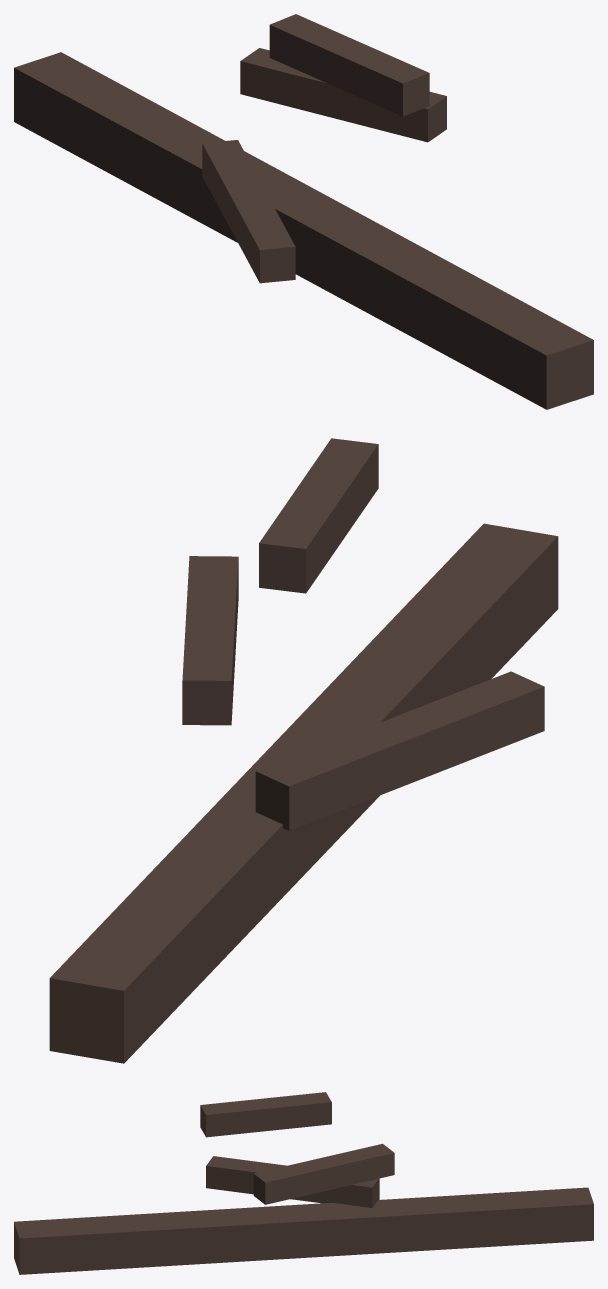
The model's file is EXTW_SouthTree_00.glb.
3 views of the same model, one above another, from view 1: azimuth 30°, elevation 25°; view 2: azimuth 150°, elevation 25°; view 3: azimuth 270°, elevation 25° (orthographic). The views are drawn at different scales.
Parts seen in each view (by area): view 1: EXTW_SouthTree_00; view 2: EXTW_SouthTree_00; view 3: EXTW_SouthTree_00.
Part boxes in pixels (x1,y1,x2,y2): EXTW_SouthTree_00: (14, 14, 593, 409); EXTW_SouthTree_00: (49, 438, 558, 1063); EXTW_SouthTree_00: (14, 1092, 593, 1274).
Size of the model in its own units: 0.7843 by 0.749 by 2.6.
